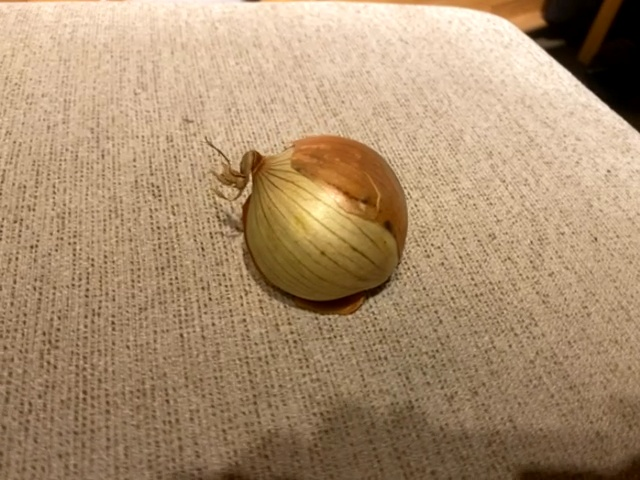onion: (201, 128, 409, 313)
